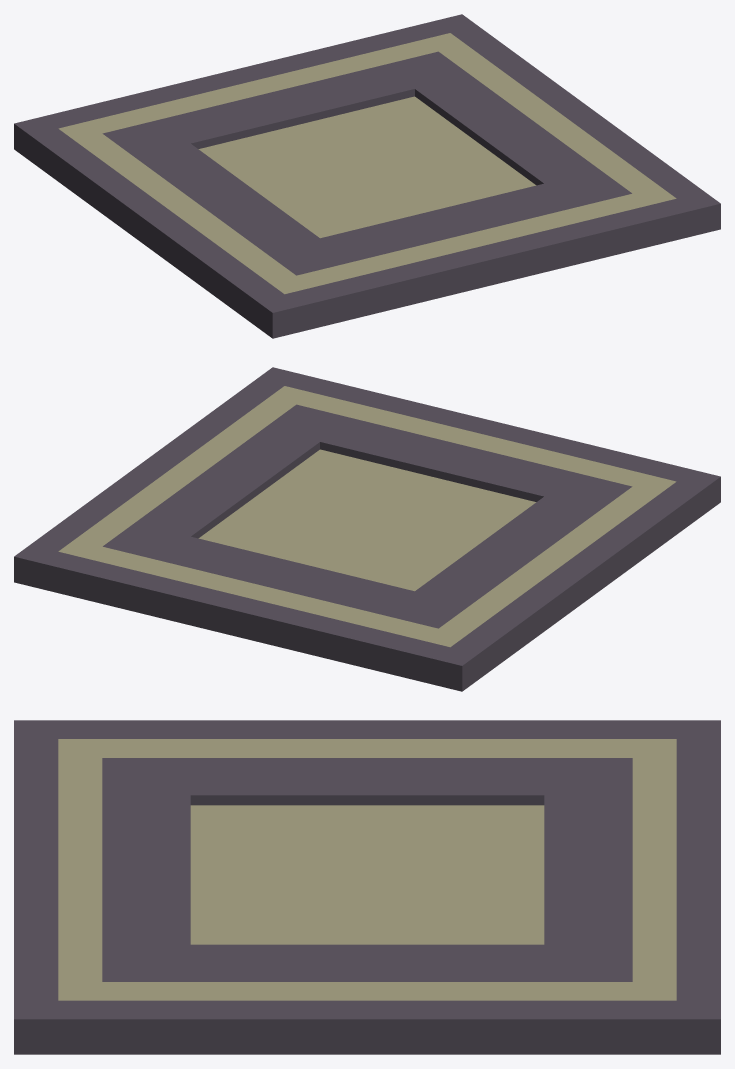
Rendered from FLOOR1.fbx.
3 views of the same model, one above another, from view 1: azimuth 30°, elevation 25°; view 2: azimuth 150°, elevation 25°; view 3: azimuth 270°, elevation 25° (orthographic). The views are drawn at different scales.
Parts seen in each view (by area): view 1: FLOOR1; view 2: FLOOR1; view 3: FLOOR1.
Part boxes in pixels (x1,y1,x2,y2): FLOOR1: (14, 14, 720, 338); FLOOR1: (14, 367, 720, 691); FLOOR1: (14, 720, 720, 1054).
Size of the model in its own units: 383 by 21.06 by 383.
